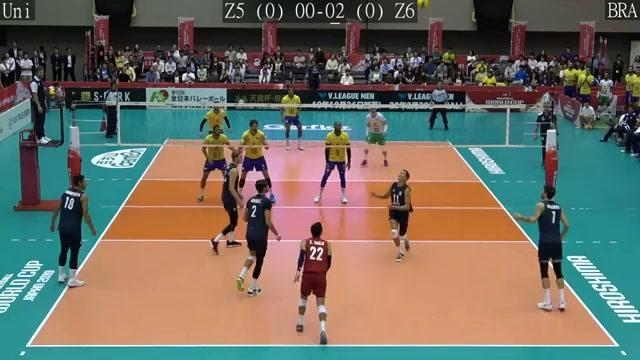ball: (415, 2, 429, 9)
